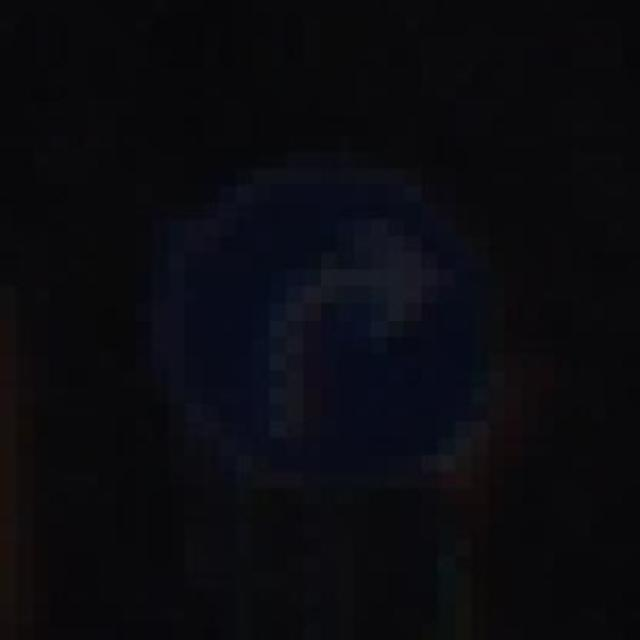Turn right ahead: (118, 135, 573, 522)
